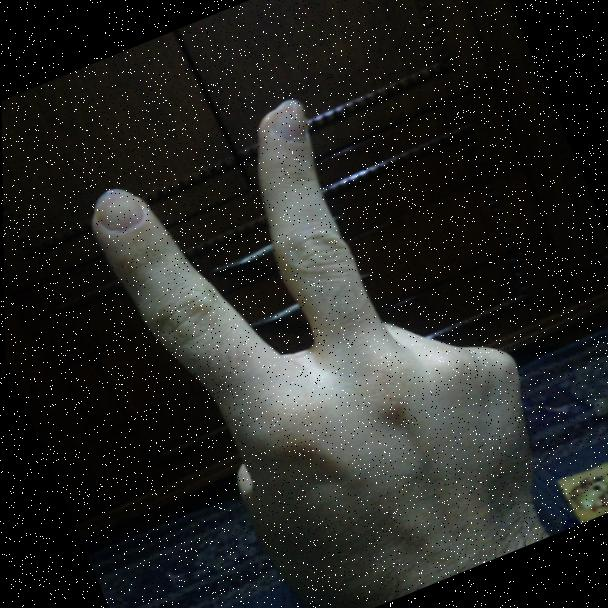two: (54, 50, 579, 608)
